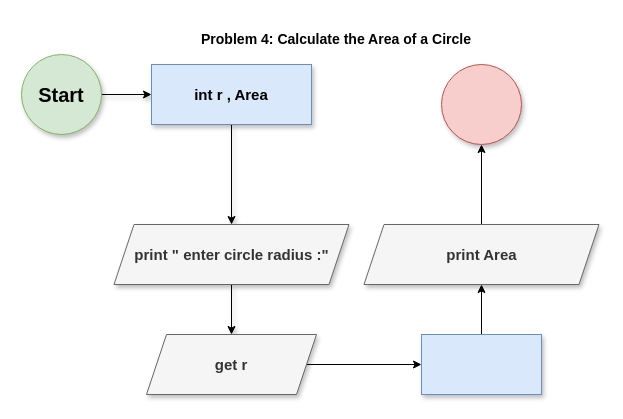
Image size: 623x419. Some labels were removed from this diagram. Each missing label, with the centre of its shape:
Area = π * (r^2): the point at 482,366
End: the point at 482,106
